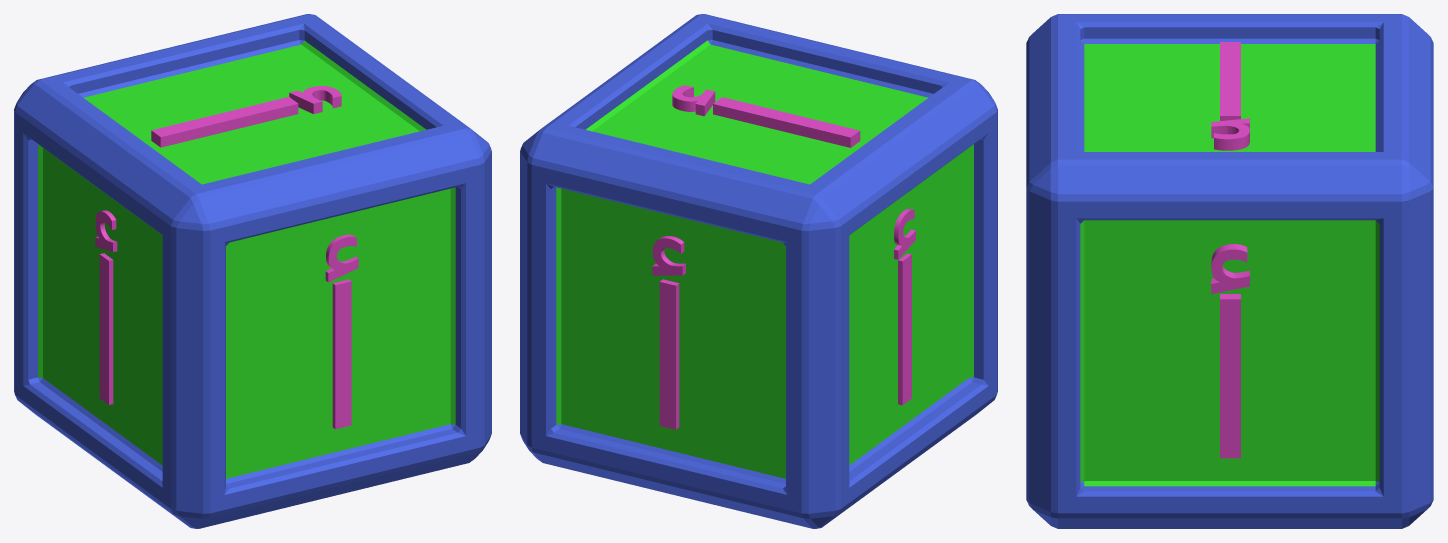
3 views of the same model, side by side, from view 1: azimuth 30°, elevation 25°; view 2: azimuth 150°, elevation 25°; view 3: azimuth 270°, elevation 25° (orthographic). The views are drawn at different scales.
Parts seen in each view (by area): view 1: Text.006; view 2: Text.006; view 3: Text.006.
Part boxes in pixels (x1=…): Text.006: x1=14, y1=14, x2=491, y2=528; Text.006: x1=520, y1=14, x2=997, y2=528; Text.006: x1=1026, y1=14, x2=1433, y2=528.
Bounding box in the file's own units: 15 × 15 × 15.
